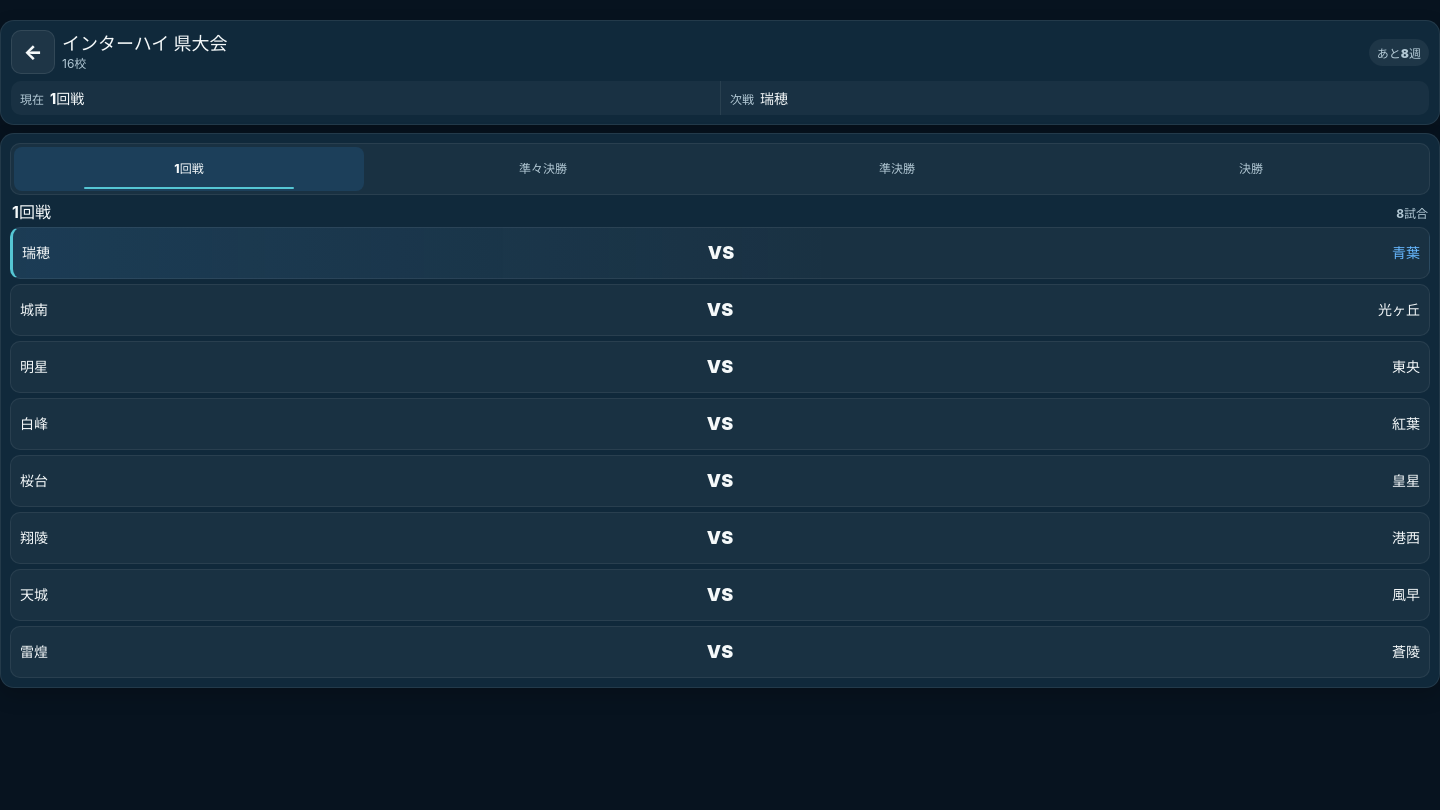
Test: TournamentScreen › shows one round at a time without a horizontally scrolling bracket
expect the heading "インターハイ 県大会" is shown: met, box x1=62 y1=33 x2=228 y2=54
expect the text "青葉" is shown: met, box x1=1392 y1=244 x2=1420 y2=261
Step 1. Click the button "準々決勝" → click(543, 169), box x1=368 y1=147 x2=718 y2=191
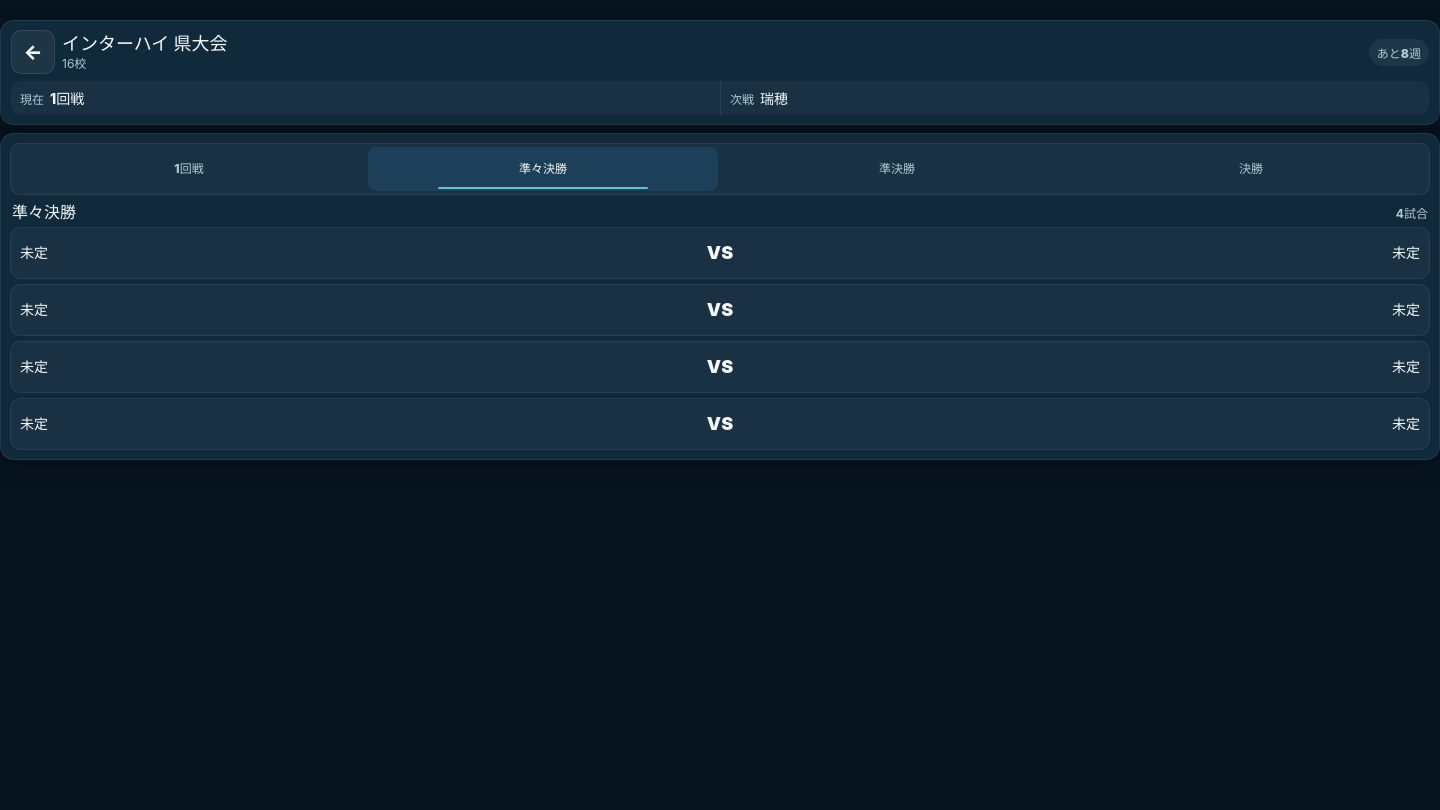
expect the number of elements with test id "tournament-bracket-match" is 4: met, box x1=10 y1=227 x2=1430 y2=279; x1=10 y1=284 x2=1430 y2=336; x1=10 y1=341 x2=1430 y2=393; x1=10 y1=398 x2=1430 y2=450
